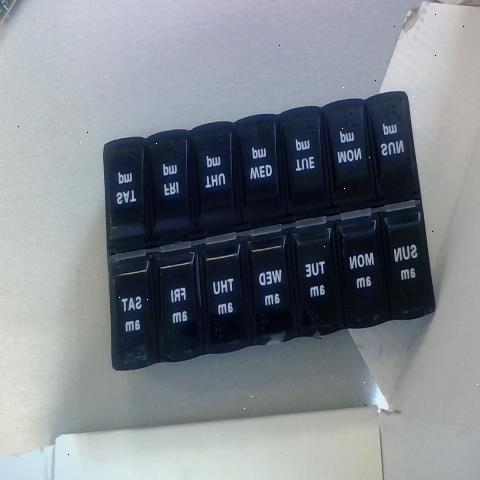FRI-am: (159, 249, 203, 356)
FRI-pm: (152, 134, 192, 232)
MON-am: (342, 220, 386, 320)
MON-pm: (333, 104, 369, 206)
SAT-am: (114, 267, 148, 363)
SAT-pm: (107, 139, 144, 242)
SUN-am: (387, 214, 426, 311)
SUN-pm: (372, 92, 410, 204)
THU-am: (206, 239, 247, 343)
THU-pm: (196, 126, 235, 230)
TUE-am: (302, 222, 338, 324)
TUE-pm: (290, 107, 328, 210)
WED-am: (252, 233, 294, 338)
WED-pm: (244, 118, 283, 220)
